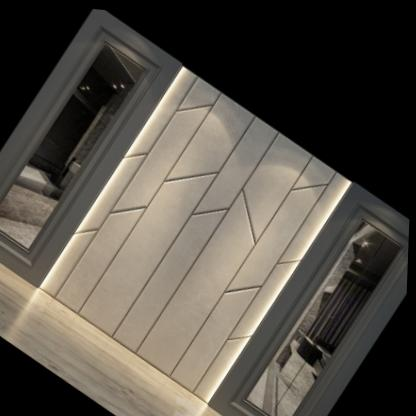Wall Panel: (0, 0, 416, 416)
Wooden floor: (0, 266, 176, 416)
